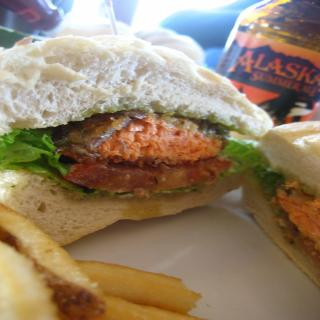Hamburger: (0, 35, 273, 244)
